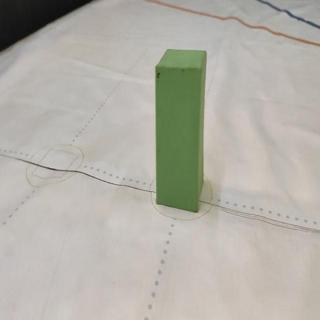greenbox: (155, 47, 209, 215)
